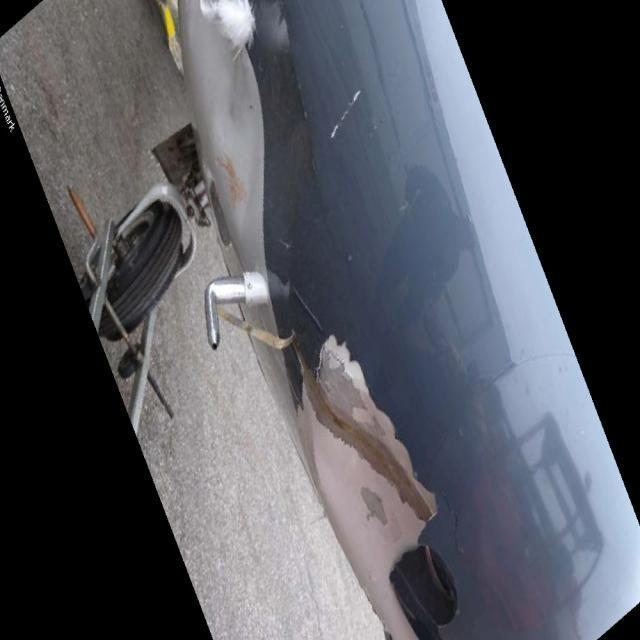crack: (440, 495, 469, 557)
dent: (313, 400, 371, 523), (214, 63, 253, 150), (243, 131, 261, 230)
